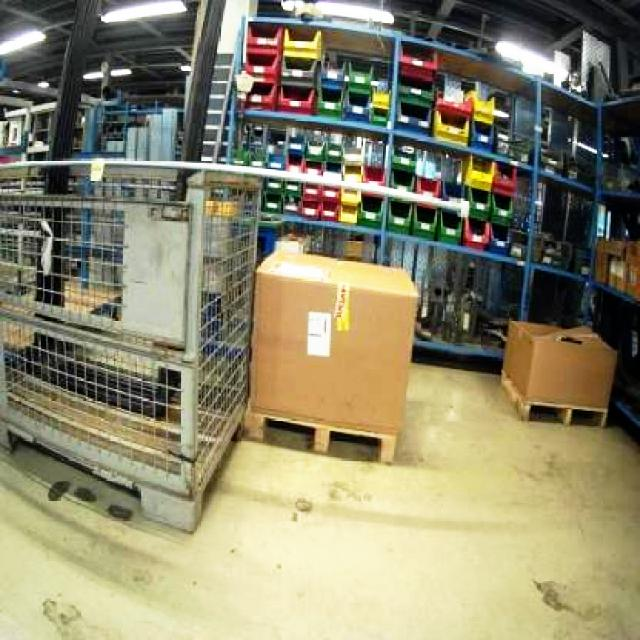ground: (0, 346, 638, 638)
pallet: (0, 9, 638, 531), (229, 14, 598, 365), (0, 155, 262, 532), (245, 248, 420, 463), (589, 68, 638, 485), (498, 317, 618, 426), (242, 20, 322, 114)
